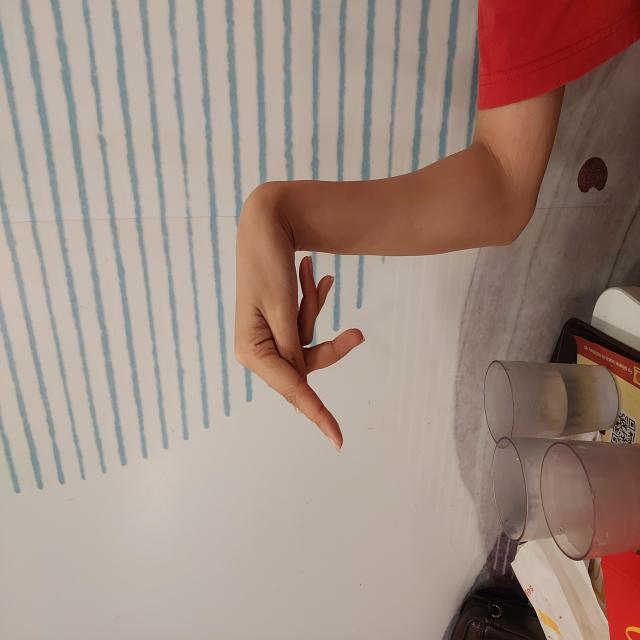P: (186, 232, 424, 366)
